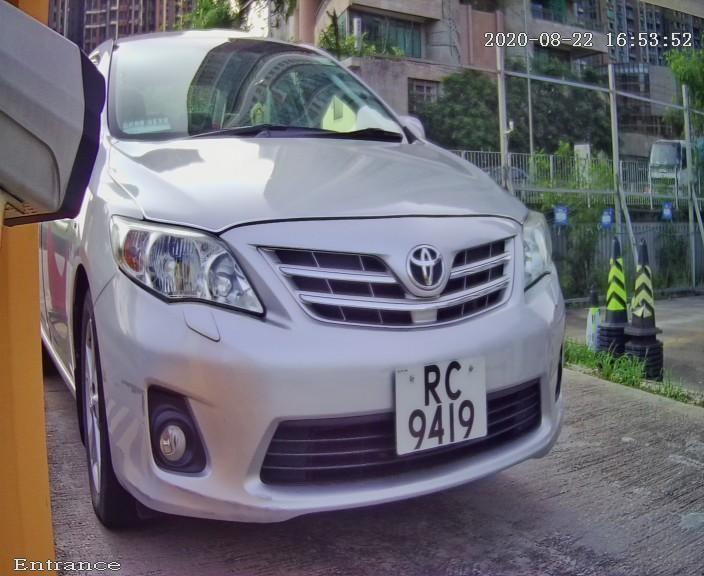Car: (10, 6, 626, 556)
License Plate: (387, 343, 497, 461)
